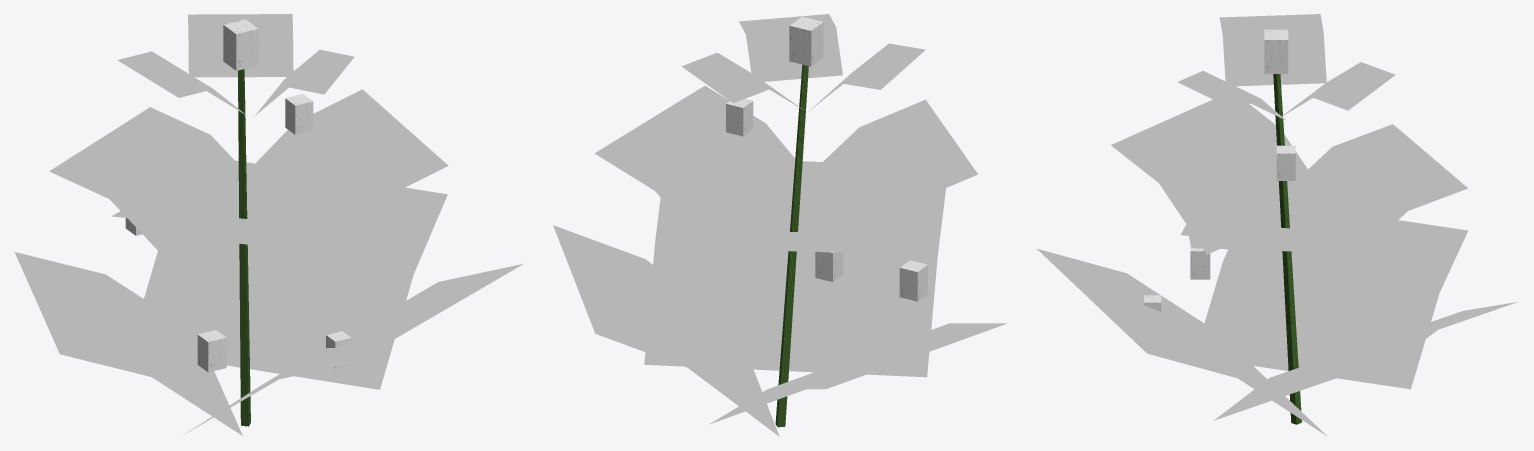
The model's file is plant_2_2_1_lod.obj.
3 renders of one model, left to right at view 1: azimuth 30°, elevation 25°; view 2: azimuth 150°, elevation 25°; view 3: azimuth 270°, elevation 25°, orthographic. The views are drawn at different scales.
Parts seen in each view (by area): view 1: model; view 2: model; view 3: model.
Boxes of the visible parts, box(x1,y1,x2,y2) form: model: box(14, 14, 523, 435); model: box(553, 14, 1007, 436); model: box(1037, 14, 1518, 436).
Size of the model in its own units: 0.8454 by 0.7727 by 0.8882.
